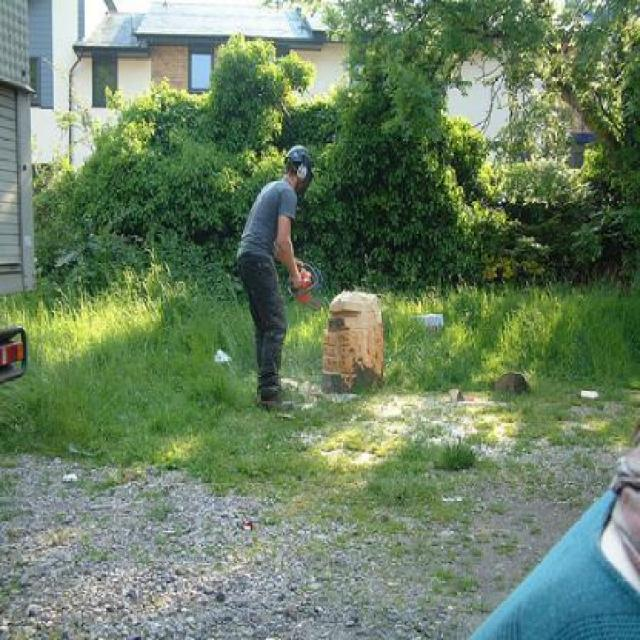Chainsaw: (284, 255, 334, 328)
